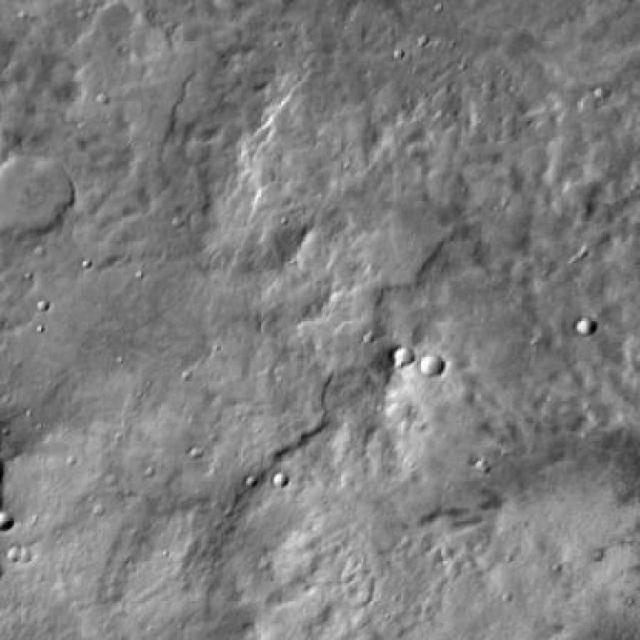crater: (0, 148, 69, 237), (419, 357, 444, 378), (397, 349, 417, 366), (578, 320, 596, 335)
